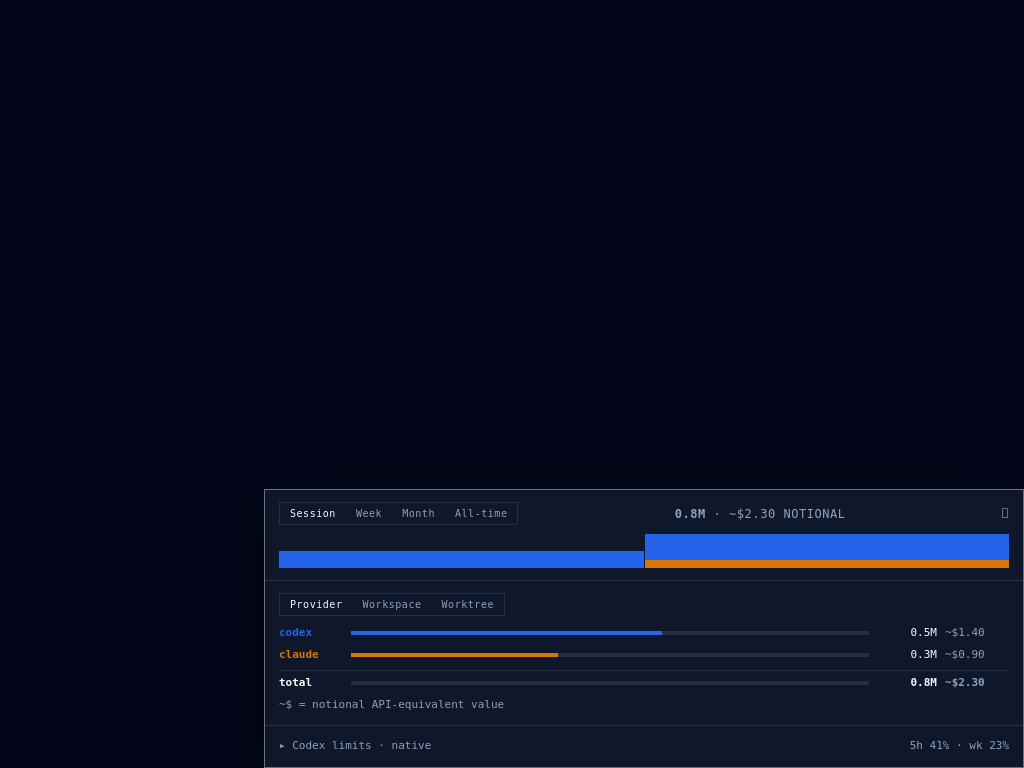
Test: UsagePopover › renders a chart for Session but none for All-time
The image size is (1024, 768).
(page scrolled)
Expected: the element with class "usage-chart" is shown, [279,534,1009,568]
Click the button "All-time" at (481, 514), box [445,503,518,524]
(page scrolled)
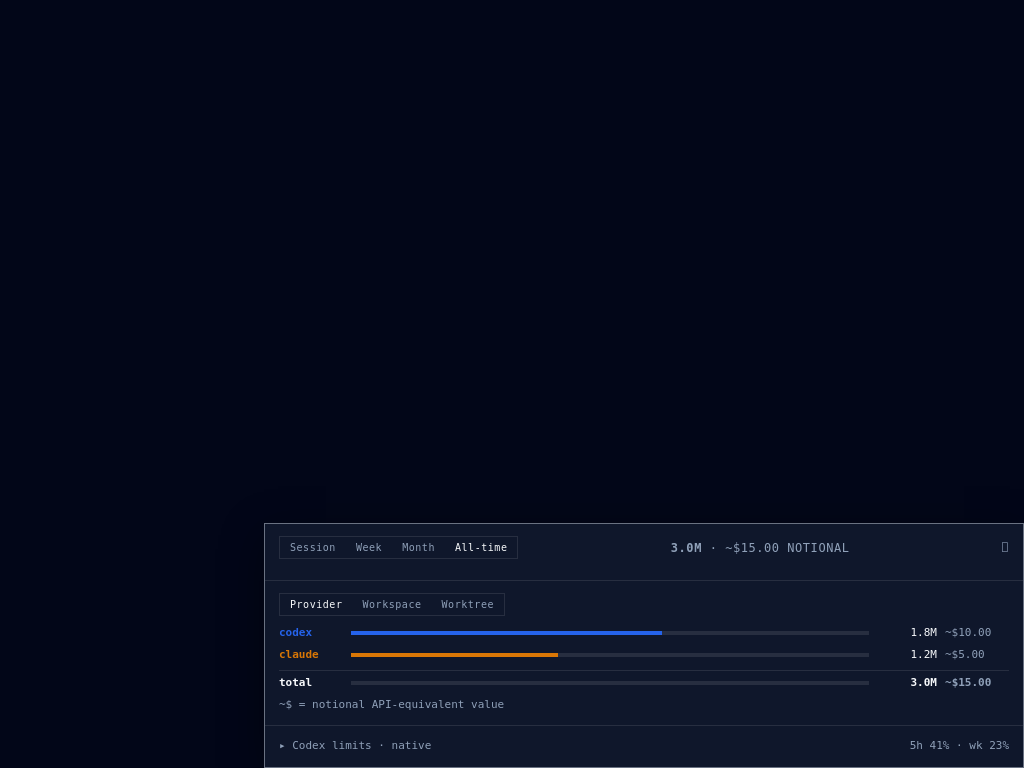
Expected: the element with class "usage-chart" is gone
